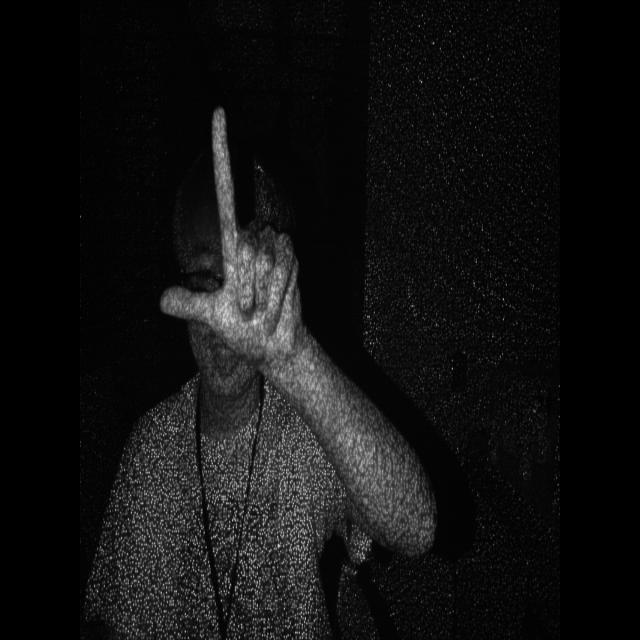L: (145, 100, 330, 410)
